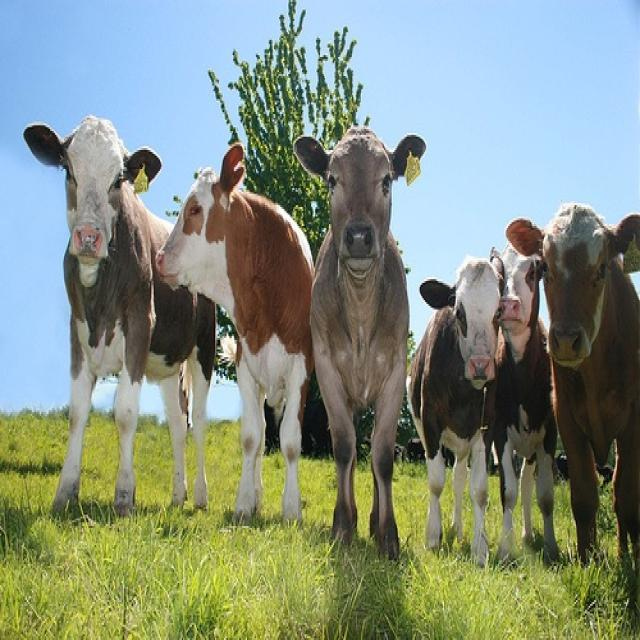cow: (21, 116, 218, 515), (155, 141, 316, 524), (292, 124, 425, 558), (503, 199, 639, 568), (404, 254, 500, 568), (489, 241, 559, 562)
